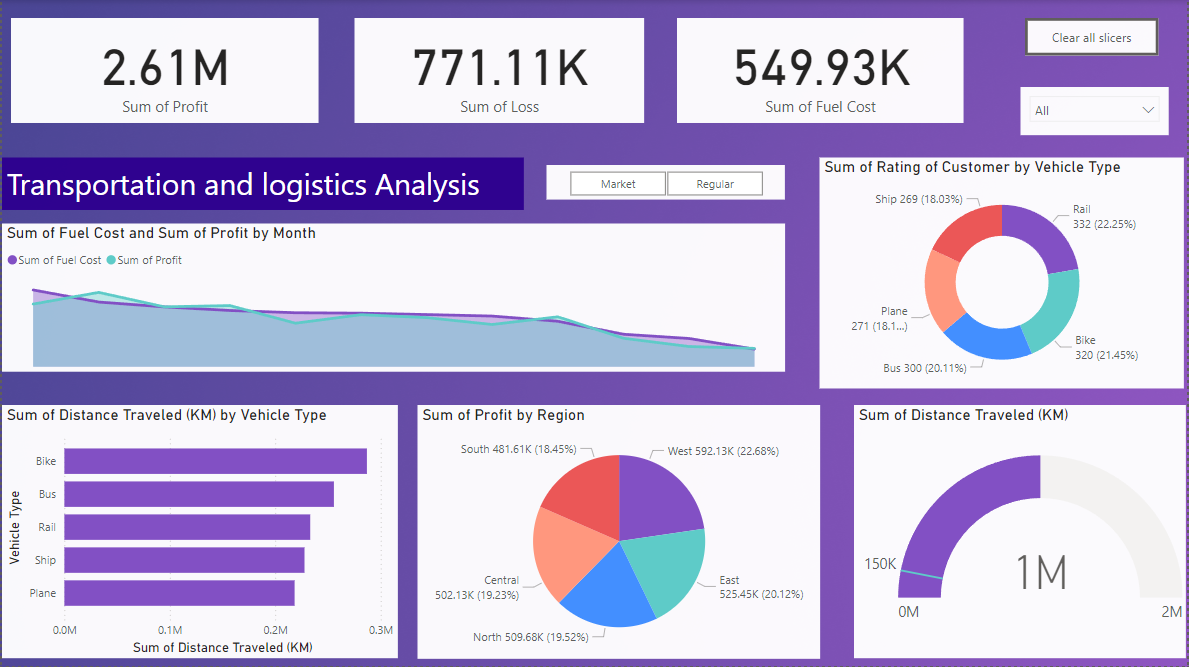

This screenshot's page, from the dashboard's own definition file:
{"tool":"powerbi","page":{"name":"Page 1","canvas":[1280,720],"ordinal":0},"visuals":[{"type":"card","fields":{"Values":["Sum(Sheet1.Profit)"]},"box":[9.7,19.4,331.9,113.3],"z":0},{"type":"card","fields":{"Values":["Sum(Sheet1.Loss)"]},"box":[380.5,19.4,312.5,113.3],"z":1000},{"type":"card","fields":{"Values":["Sum(Sheet1.Fuel Cost)"]},"box":[728.7,19.4,309.3,113.3],"z":2000},{"type":"textbox","box":[0,170,563.5,56.7],"z":3000},{"type":"slicer","fields":{"Values":["Sheet1.Market or Regular"]},"box":[587.8,178.1,257.5,37.2],"z":4000},{"type":"areaChart","fields":{"Category":["Sheet1.Month"],"Y":["Sum(Sheet1.Fuel Cost)"],"Y2":["Sum(Sheet1.Profit)"]},"box":[0,241.3,845.2,160.3],"z":5000},{"type":"clusteredBarChart","fields":{"Category":["Sheet1.Vehicle Type"],"Y":["Sum(Sheet1.Distance Traveled (KM))"]},"box":[0,437.2,427.5,273.6],"z":6000},{"type":"gauge","fields":{"Y":["Sum(Sheet1.Distance Traveled (KM))"]},"box":[919.7,437.2,359.5,273.6],"z":7000},{"type":"pieChart","fields":{"Y":["Sum(Sheet1.Profit)"],"Category":["Sheet1.Region"]},"box":[447.9,436.5,434.6,274],"z":8000},{"type":"donutChart","fields":{"Y":["Sum(Sheet1.Rating of Customer)"],"Category":["Sheet1.Vehicle Type"]},"box":[885.7,170,393.5,249.4],"z":9000},{"type":"slicer","fields":{"Values":["Sheet1.Year"]},"box":[1099.5,93.9,160.3,51.8],"z":10000},{"type":"actionButton","box":[1104.3,19.4,144.1,40.5],"z":11000}]}

Visuals, with their boxes in screenshot pixels (x1, y1, x2, y2), scaled from the page's 1280x720 canvas onto the 1189x667 screenshot:
card - Sum(Sheet1.Profit): {"left": 9, "top": 18, "right": 317, "bottom": 123}
card - Sum(Sheet1.Loss): {"left": 353, "top": 18, "right": 644, "bottom": 123}
card - Sum(Sheet1.Fuel Cost): {"left": 677, "top": 18, "right": 964, "bottom": 123}
textbox: {"left": 0, "top": 157, "right": 523, "bottom": 210}
slicer - Sheet1.Market or Regular: {"left": 546, "top": 165, "right": 785, "bottom": 199}
areaChart - Sheet1.Month x Sum(Sheet1.Fuel Cost): {"left": 0, "top": 224, "right": 785, "bottom": 372}
clusteredBarChart - Sheet1.Vehicle Type x Sum(Sheet1.Distance Traveled (KM)): {"left": 0, "top": 405, "right": 397, "bottom": 658}
gauge - Sum(Sheet1.Distance Traveled (KM)): {"left": 854, "top": 405, "right": 1188, "bottom": 658}
pieChart - Sum(Sheet1.Profit) x Sheet1.Region: {"left": 416, "top": 404, "right": 820, "bottom": 658}
donutChart - Sum(Sheet1.Rating of Customer) x Sheet1.Vehicle Type: {"left": 823, "top": 157, "right": 1188, "bottom": 389}
slicer - Sheet1.Year: {"left": 1021, "top": 87, "right": 1170, "bottom": 135}
actionButton: {"left": 1026, "top": 18, "right": 1160, "bottom": 55}
